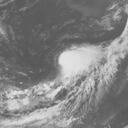cyclone: (59, 45, 103, 78)
